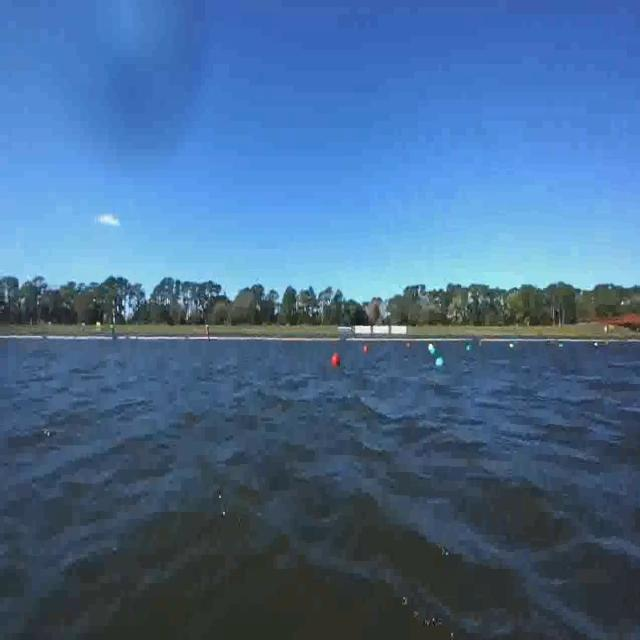green-buoy: (434, 354, 446, 377)
red-buoy: (333, 353, 343, 368)
